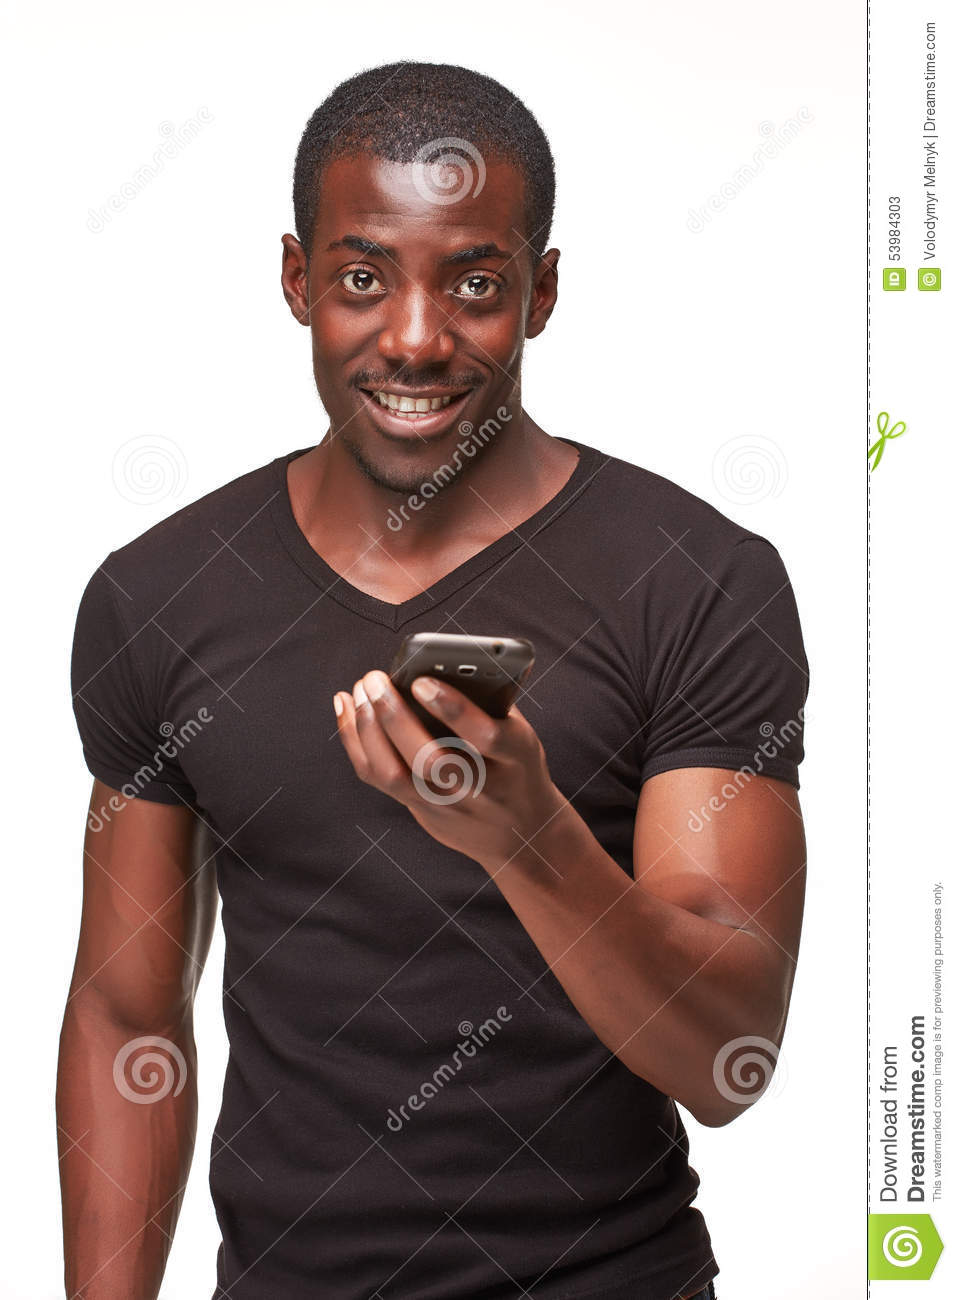phone: (387, 636, 531, 758)
